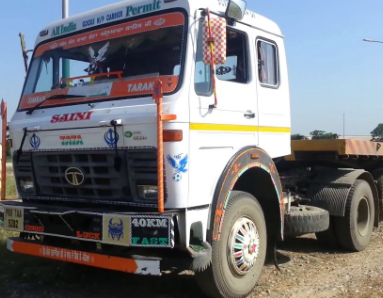truck: (4, 1, 381, 298)
